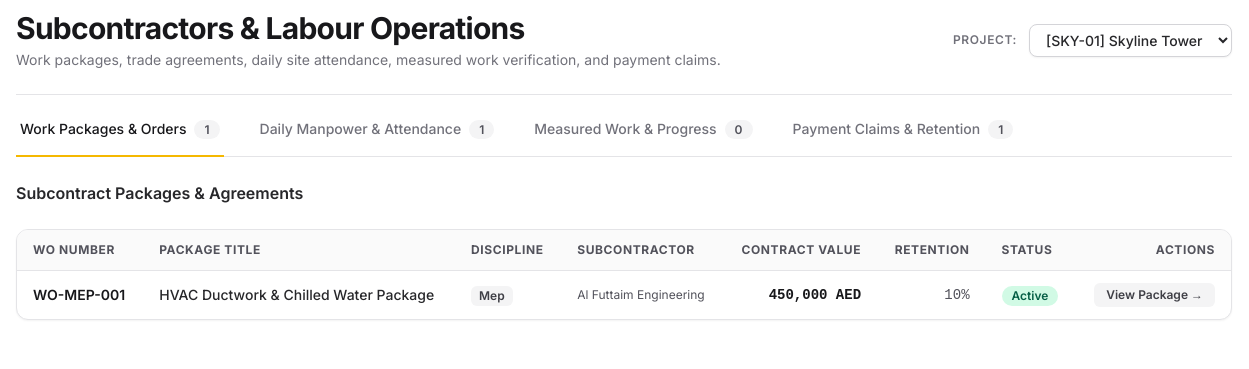
Scenario: SubcontractorsPage › switches to Payment Claims tab and shows claim with retention deductions
The width and height of the screenshot is (1249, 369).
What coordinates should you click on to do the following:
click the tab "Payment Claims & Retention1"
I would click on:
 (903, 138)
Its box is [788, 119, 1017, 157].
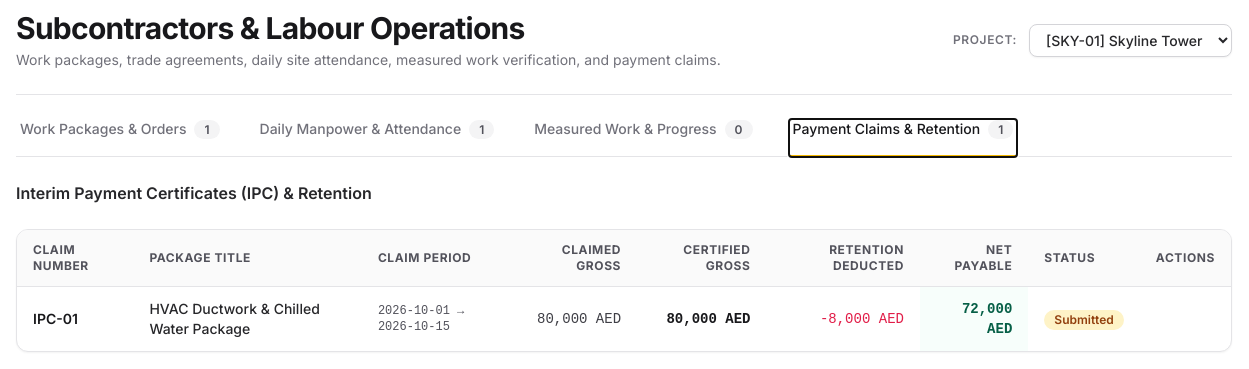
Result: the text "IPC-01" is shown at [17, 286, 133, 351]
Result: the 1st text "80,000 AED" is shown at [516, 286, 637, 351]
Result: the text "-8,000 AED" is shown at [766, 286, 920, 351]
